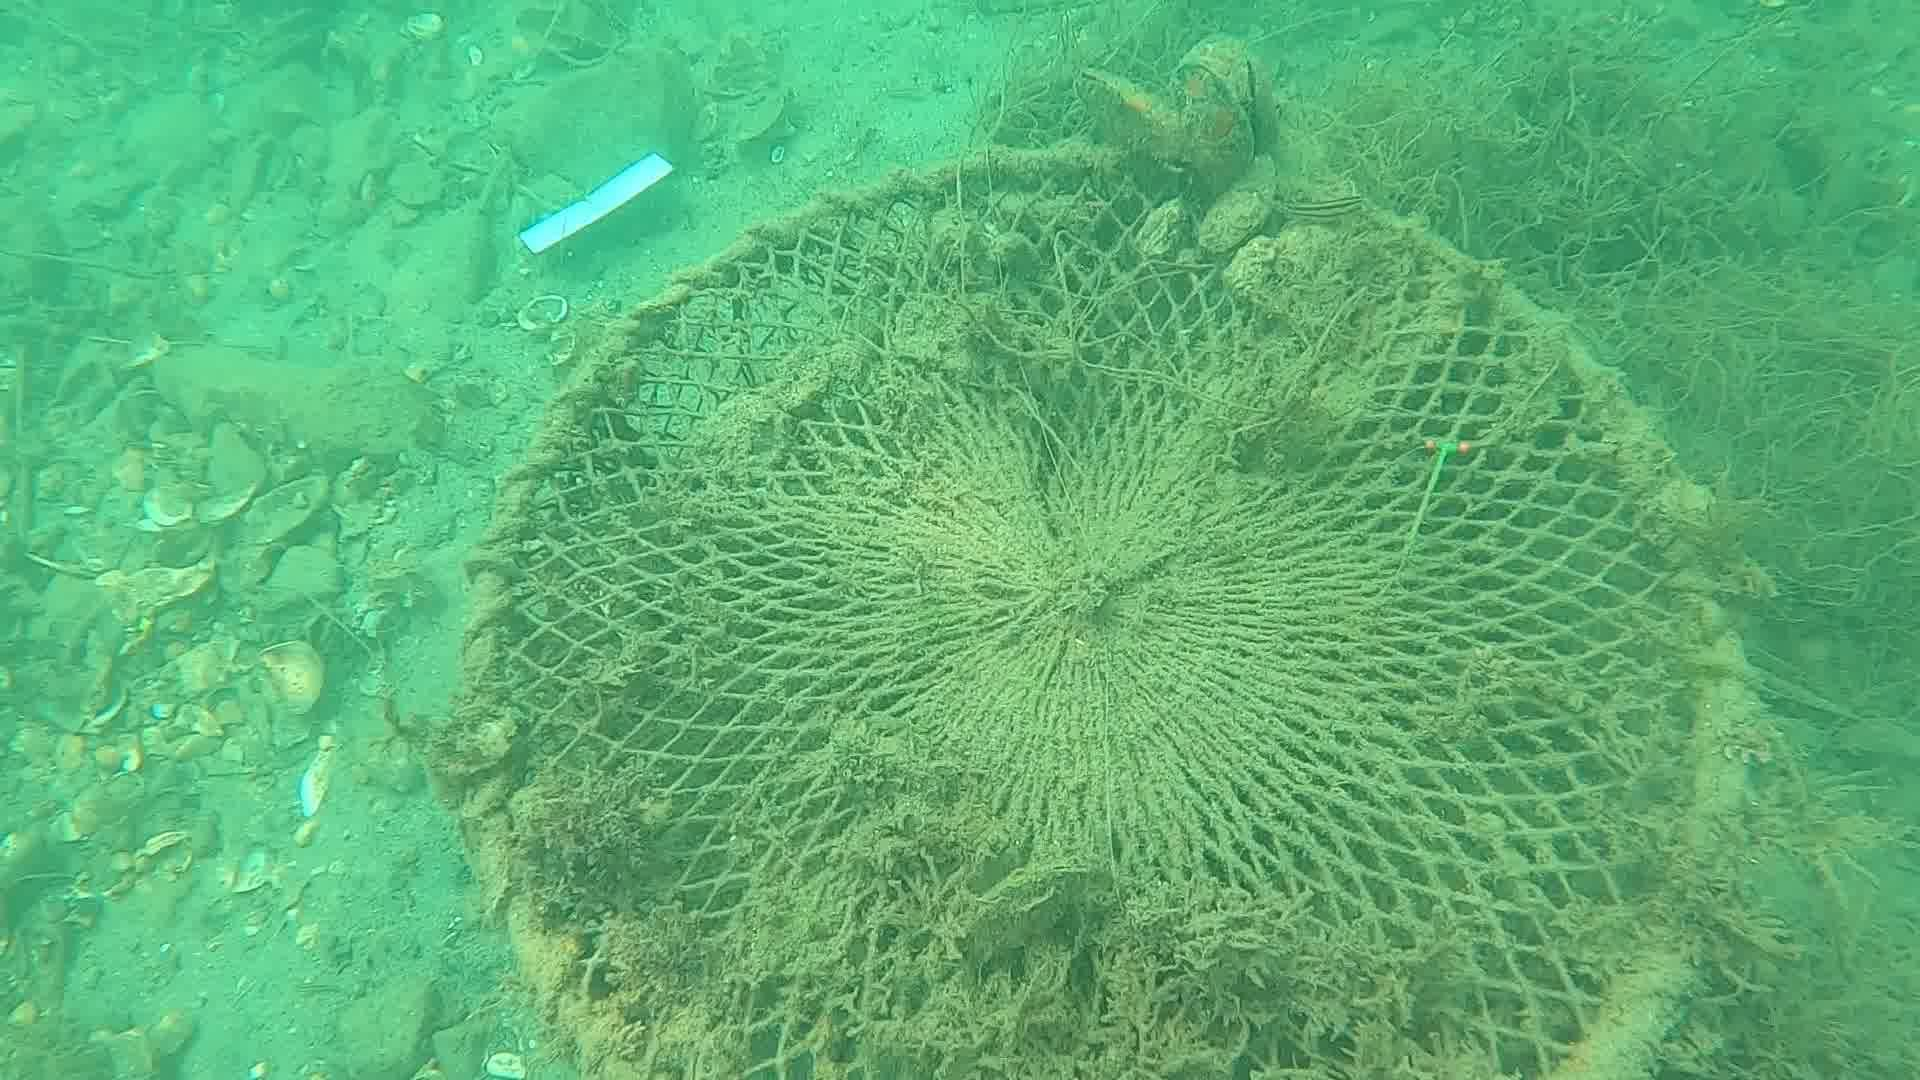circular fish trap: (458, 142, 1767, 1080)
